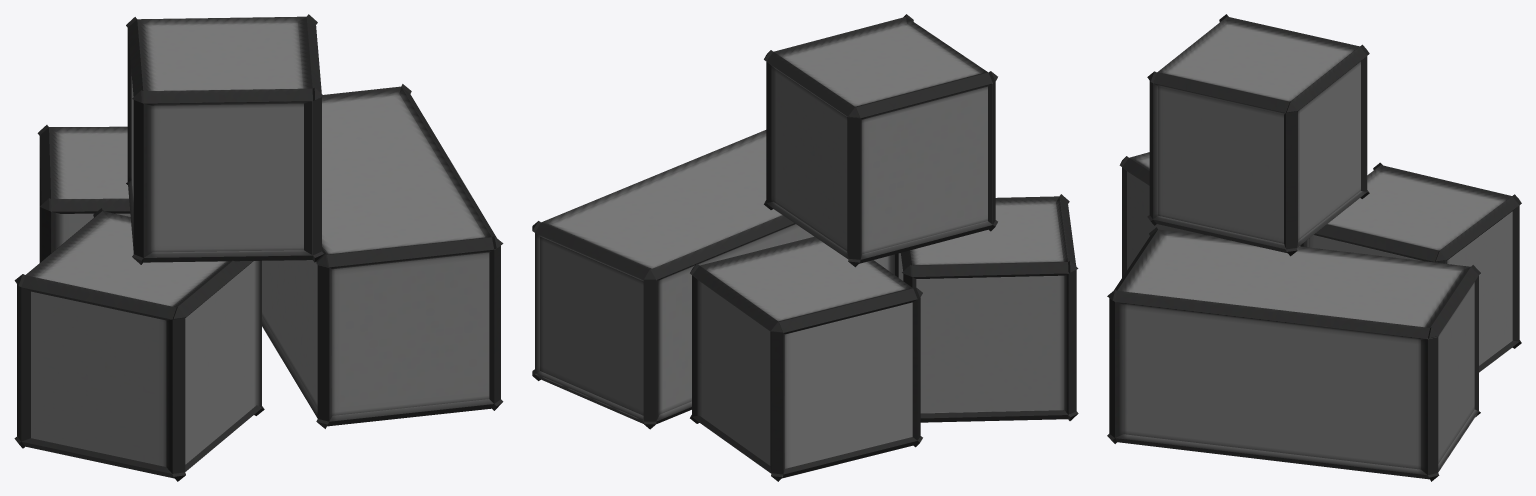
Rendered from Storage_Crates_04.fbx.
The picture shows the model from 3 angles, left to right: view 1: azimuth 30°, elevation 25°; view 2: azimuth 150°, elevation 25°; view 3: azimuth 270°, elevation 25°; orthographic projection. The views are drawn at different scales.
Parts seen in each view (by area): view 1: Storage_Crates_04; view 2: Storage_Crates_04; view 3: Storage_Crates_04.
Part boxes in pixels (box(x1,y1,x2,y2)): Storage_Crates_04: box(14, 14, 503, 481); Storage_Crates_04: box(532, 14, 1078, 481); Storage_Crates_04: box(1107, 14, 1521, 481).
Bounding box in the file's own units: 791 × 529 × 651.
